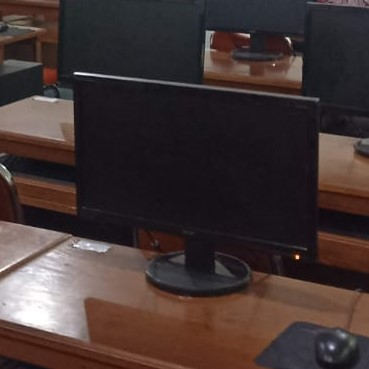monitor: (72, 72, 321, 295), (56, 0, 206, 87), (301, 2, 369, 138), (205, 0, 313, 62)
